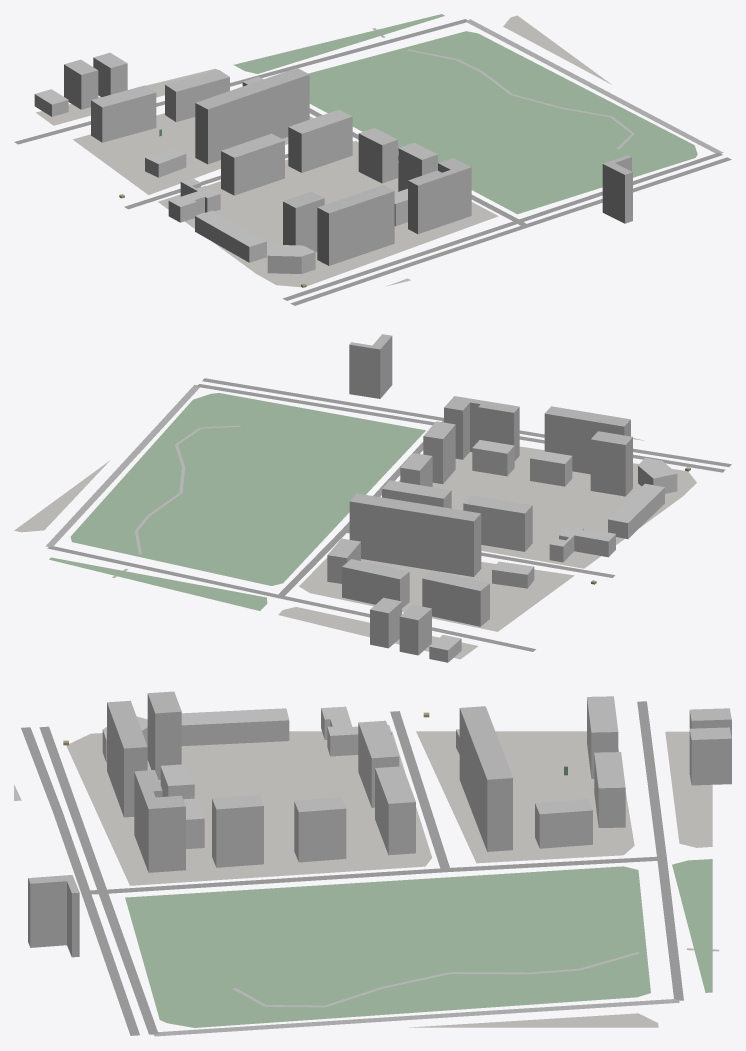
The picture shows the model from 3 angles, top to bottom: view 1: azimuth 30°, elevation 25°; view 2: azimuth 150°, elevation 25°; view 3: azimuth 270°, elevation 25°; orthographic projection. The views are drawn at different scales.
Bounding box in the file's own units: 566 × 57.81 × 514.
